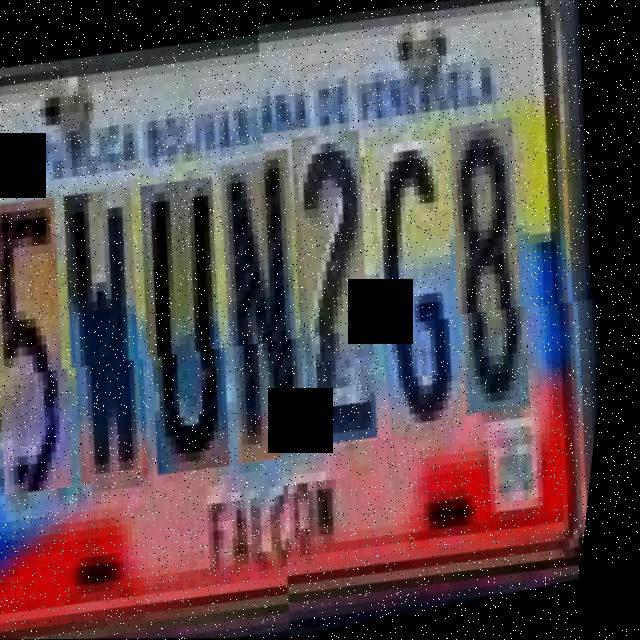2: (265, 129, 427, 453)
5: (0, 191, 121, 497)
8: (424, 117, 576, 421)
G: (349, 135, 511, 442)
N: (195, 149, 356, 464)
U: (117, 169, 278, 476)
W: (40, 180, 197, 486)
